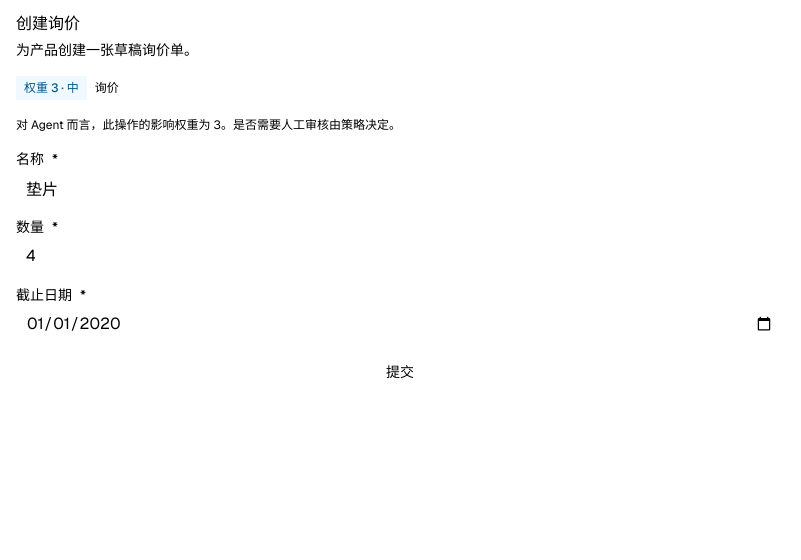
Test: widget view › keeps the form editable and shows Chinese issues when the tool rejects
The image size is (801, 560).
Click the button "提交" at (400,372), box 16,356 -> 784,388
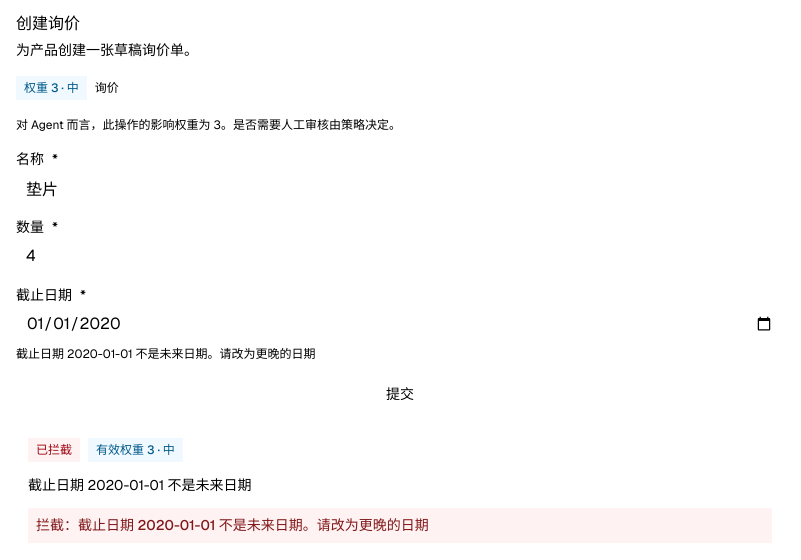
Expected: the button "提交" is shown, 16,378 -> 784,410
Expected: the text "截止日期 2020-01-01 不是未来日期。请改为更晚的日期" is shown, 16,346 -> 316,362
